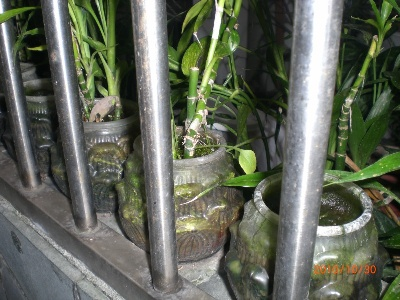bottle: (227, 172, 374, 300), (118, 126, 246, 261), (50, 96, 138, 214)
